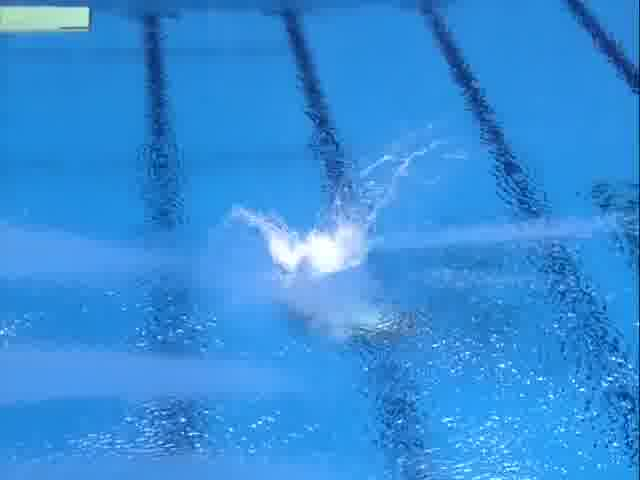core: (297, 224, 340, 265)
periphery: (214, 118, 638, 347)
